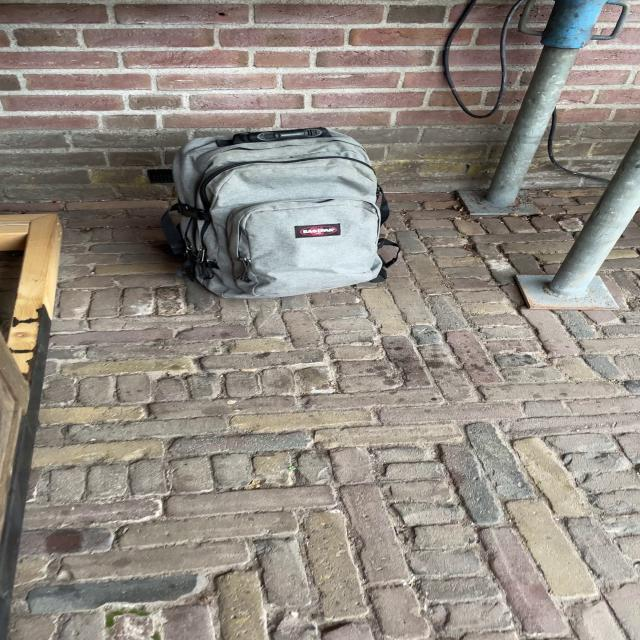backpack: (150, 119, 402, 304)
